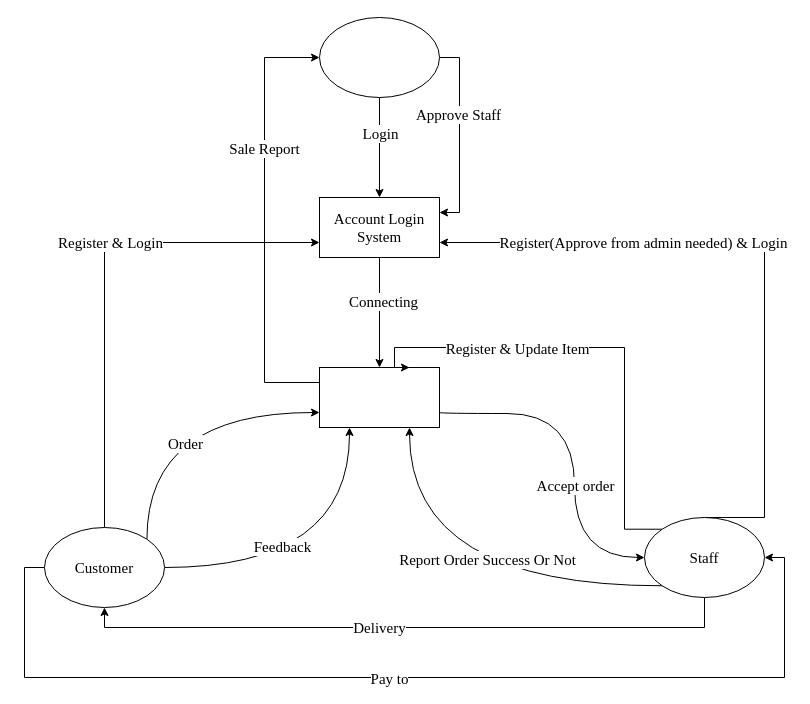
This 810x704 diagram has some shape labels left out. Here are the shapes that lost their labels. From the top down, the box of each, then its label:
(318, 16, 440, 98): Admin
(318, 366, 440, 428): Online Shopping System in UTeM
